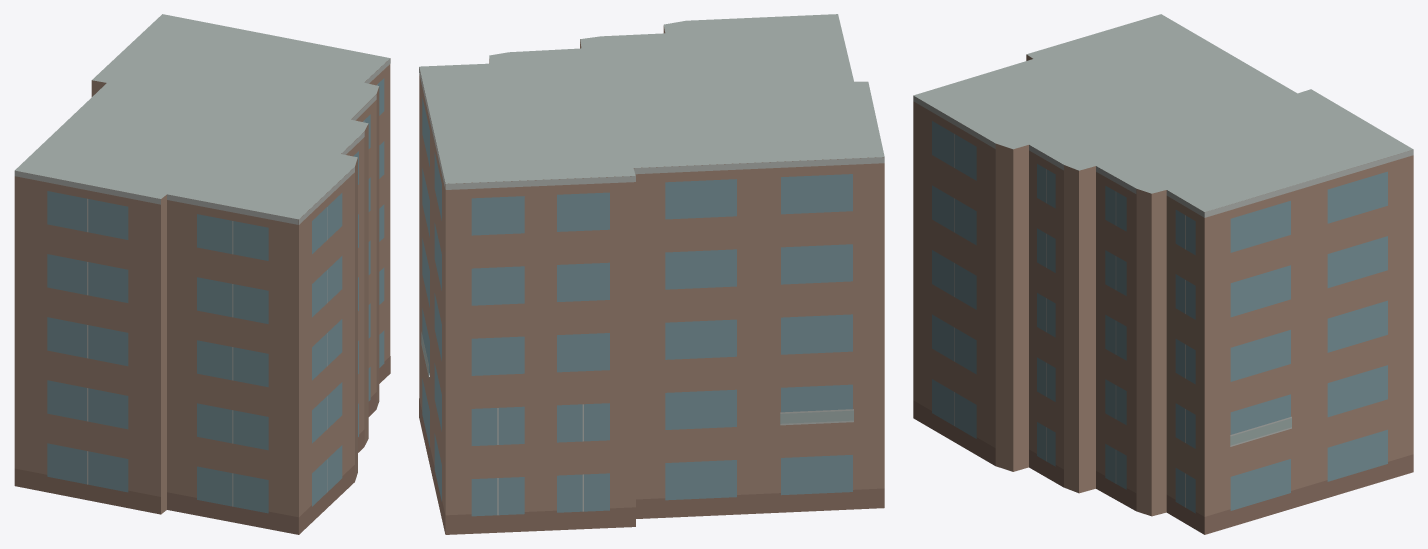
Rendered from survey-upis-32888423.glb.
3 views of the same model, side by side, from view 1: azimuth 30°, elevation 25°; view 2: azimuth 150°, elevation 25°; view 3: azimuth 270°, elevation 25° (orthographic). The views are drawn at different scales.
Visible parts, largest first — view 1: survey-upis-32888423.tmp; view 2: survey-upis-32888423.tmp; view 3: survey-upis-32888423.tmp.
Part boxes in pixels (x1=…): survey-upis-32888423.tmp: x1=14, y1=14, x2=390, y2=534; survey-upis-32888423.tmp: x1=419, y1=14, x2=884, y2=534; survey-upis-32888423.tmp: x1=913, y1=14, x2=1413, y2=534.
Bounding box in the file's own units: 18.19 × 13.8 × 19.4.
